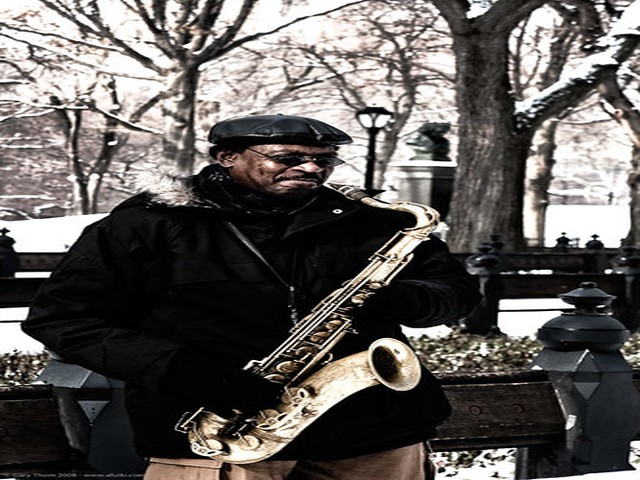Person: (34, 116, 473, 480)
